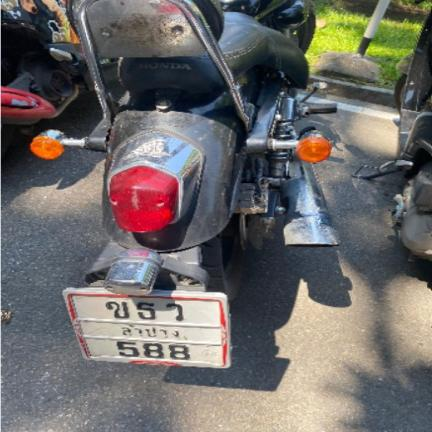5: (114, 340, 140, 358)
8: (140, 340, 167, 360), (168, 342, 191, 361)
A02: (103, 299, 131, 319)
A24: (133, 299, 158, 321)
A37: (161, 300, 187, 322)
LPG: (117, 323, 183, 339)
